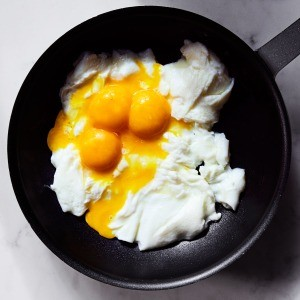egg_brain food: (89, 100, 202, 197)
